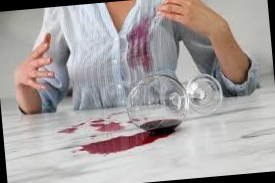wine: (122, 17, 162, 75)
